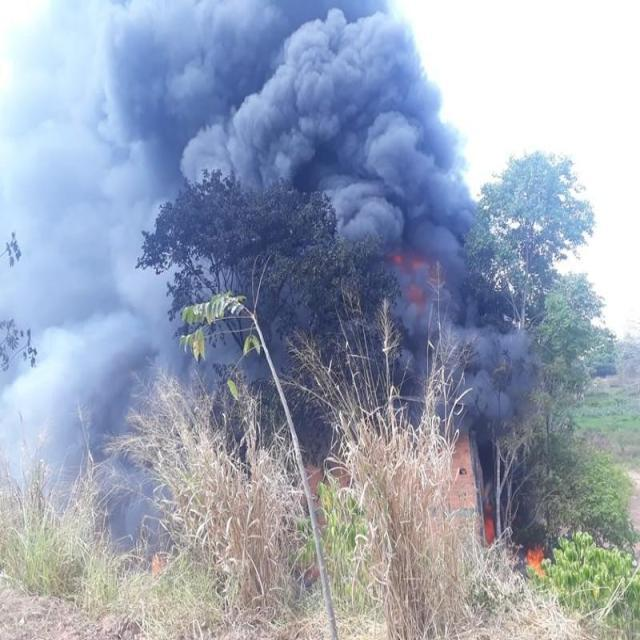Fire: (522, 538, 552, 576), (478, 503, 502, 545)
Smoke: (8, 8, 544, 438)
